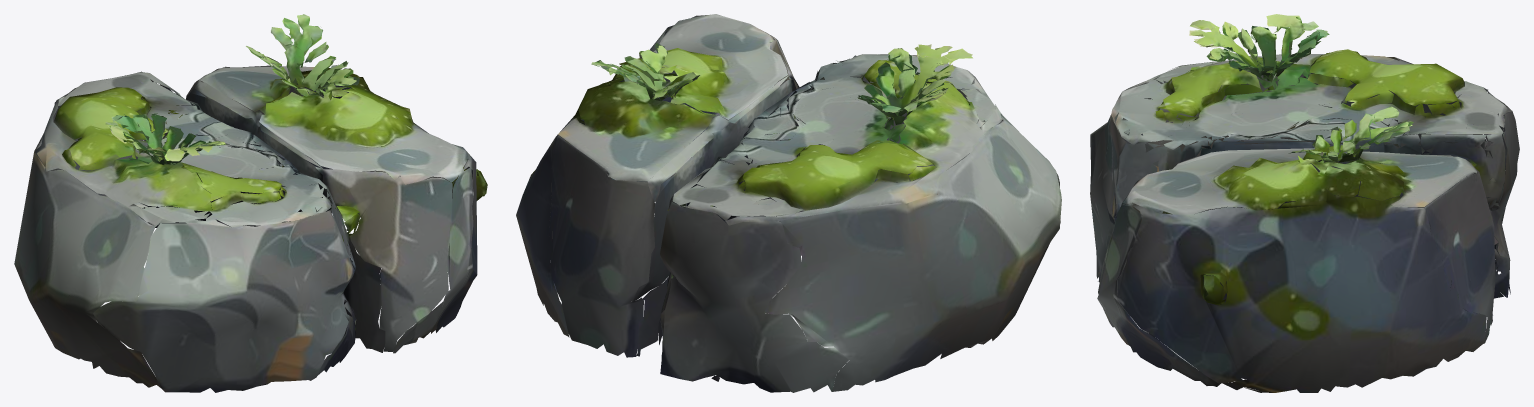
File: rock_split.glb
The picture shows the model from 3 angles, left to right: view 1: azimuth 30°, elevation 25°; view 2: azimuth 150°, elevation 25°; view 3: azimuth 270°, elevation 25°; orthographic projection. The views are drawn at different scales.
Parts seen in each view (by area): view 1: rock_split; view 2: rock_split; view 3: rock_split.
Boxes of the visible parts, x1=… form: rock_split: x1=14, y1=14, x2=487, y2=392; rock_split: x1=516, y1=14, x2=1061, y2=392; rock_split: x1=1090, y1=14, x2=1519, y2=392.
Size of the model in its own units: 1.73 by 0.8591 by 1.48.
1 material, 1 textured.
